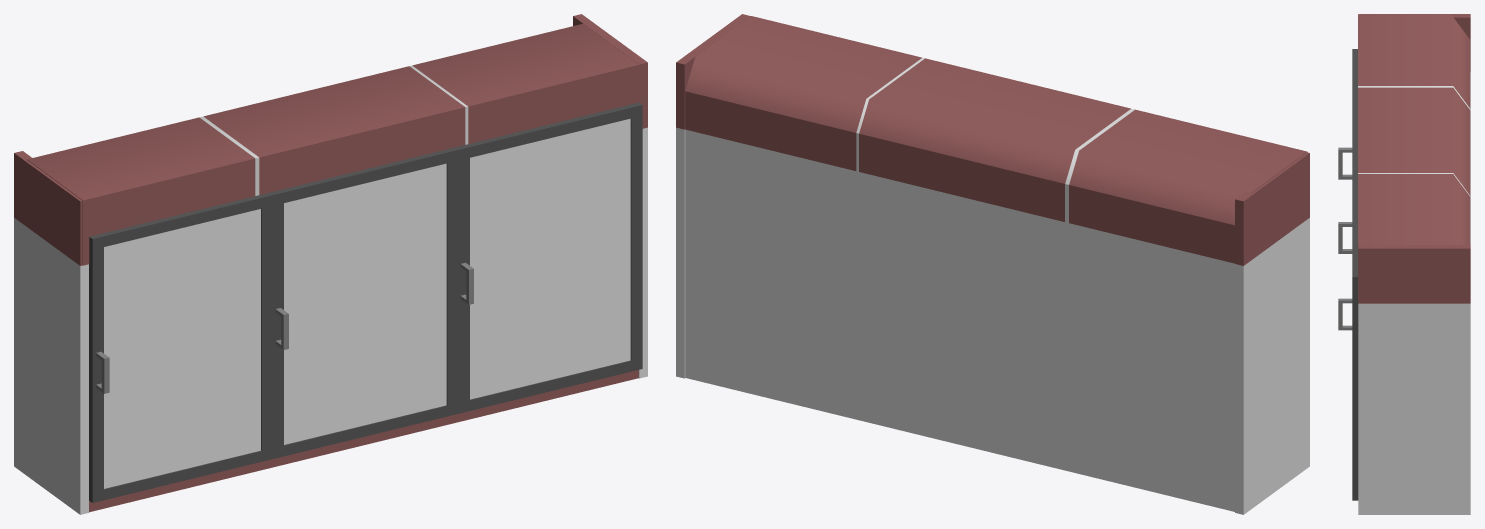
Rendered from Shelf 4.fbx.
The picture shows the model from 3 angles, left to right: view 1: azimuth 30°, elevation 25°; view 2: azimuth 150°, elevation 25°; view 3: azimuth 270°, elevation 25°; orthographic projection. The views are drawn at different scales.
Visible parts, largest first — view 1: pCube75, pCube84, pCube83, pCube81, pCube79, pCube72, pCube82; view 2: pCube75, pCube79, pCube72, pCube82; view 3: pCube82, pCube75, pCube83, pCube79, pCube84, pCube81, pCube85, pCube87, pCube86.
Part boxes in pixels (left/top/right/bottom): pCube75: left=27, top=24, right=639, bottom=265; pCube84: left=269, top=147, right=458, bottom=458; pCube83: left=456, top=102, right=642, bottom=413; pCube81: left=89, top=193, right=272, bottom=502; pCube79: left=14, top=151, right=88, bottom=514; pCube72: left=89, top=370, right=638, bottom=512; pCube82: left=573, top=14, right=647, bottom=378; pCube75: left=685, top=16, right=1307, bottom=500; pCube79: left=1235, top=152, right=1309, bottom=514; pCube72: left=685, top=367, right=1234, bottom=511; pCube82: left=676, top=14, right=750, bottom=378; pCube82: left=1358, top=245, right=1470, bottom=514; pCube75: left=1358, top=14, right=1470, bottom=299; pCube83: left=1352, top=200, right=1358, bottom=500; pCube79: left=1358, top=14, right=1470, bottom=244; pCube84: left=1352, top=123, right=1357, bottom=200; pCube81: left=1352, top=49, right=1357, bottom=123; pCube85: left=1338, top=147, right=1352, bottom=179; pCube87: left=1338, top=298, right=1352, bottom=330; pCube86: left=1338, top=222, right=1352, bottom=253.
Size of the model in its own units: 6.4 by 3.39 by 1.53.
